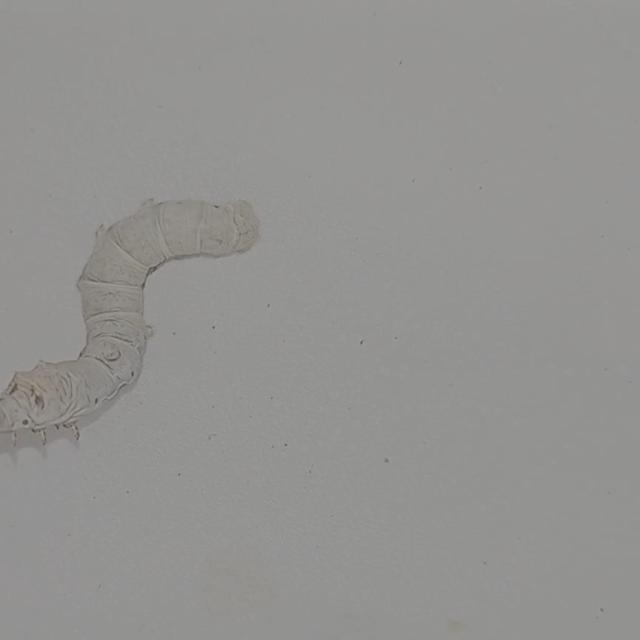Healthy: (0, 171, 298, 483)
